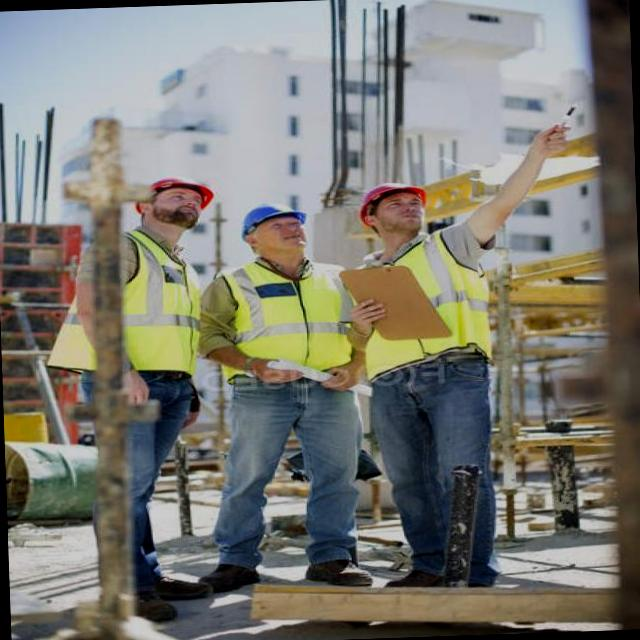boots: (304, 556, 374, 590), (196, 560, 262, 594), (148, 566, 212, 601), (134, 586, 178, 622), (382, 565, 444, 590)
helmet: (133, 172, 216, 215), (358, 180, 428, 226), (239, 200, 308, 242)
vest: (41, 228, 204, 380), (360, 226, 493, 382), (218, 258, 358, 386)
